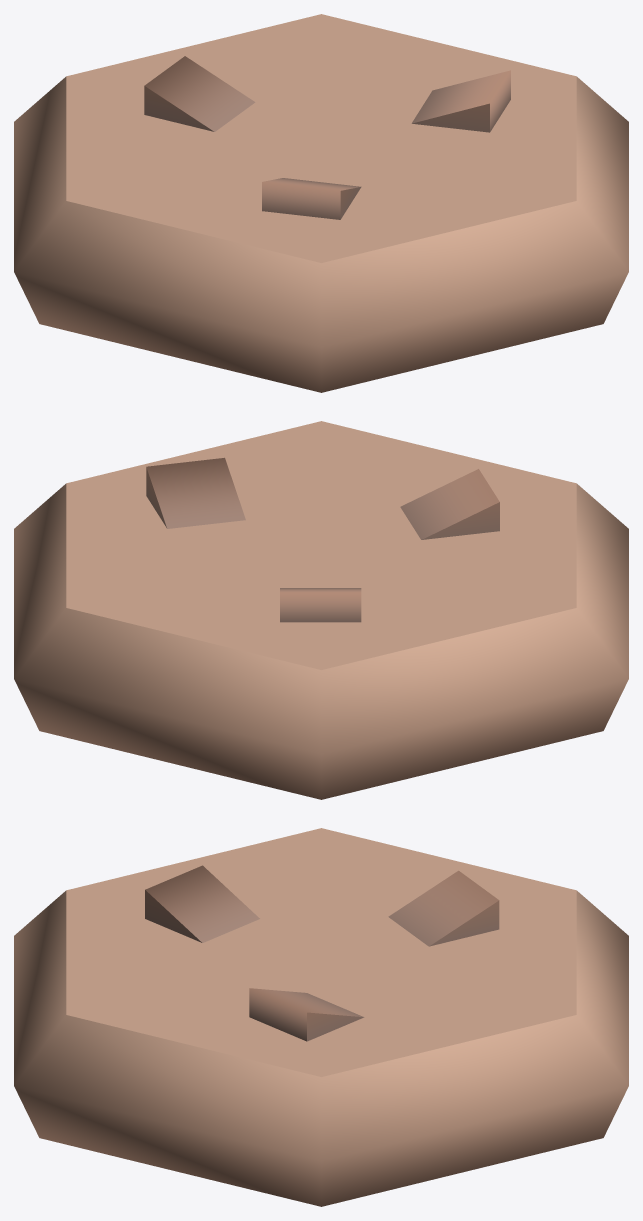
Rendered from cookie.glb.
3 renders of one model, top to bottom at view 1: azimuth 30°, elevation 25°; view 2: azimuth 150°, elevation 25°; view 3: azimuth 270°, elevation 25°, orthographic.
Parts seen in each view (by area): view 1: cookie; view 2: cookie; view 3: cookie.
Boxes of the visible parts, x1=… form: cookie: x1=14, y1=14, x2=628, y2=392; cookie: x1=14, y1=421, x2=628, y2=799; cookie: x1=14, y1=828, x2=628, y2=1206.
Size of the model in its own units: 0.2197 by 0.0498 by 0.1903.
